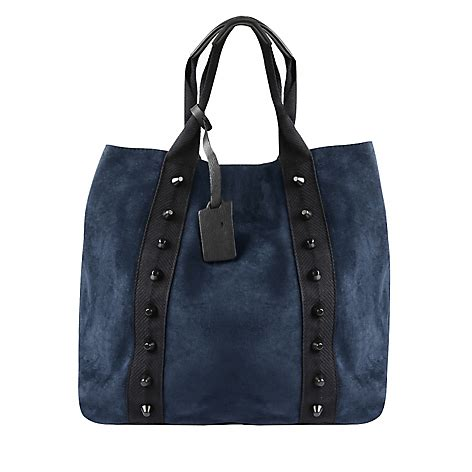gamuza: (78, 140, 391, 425)
